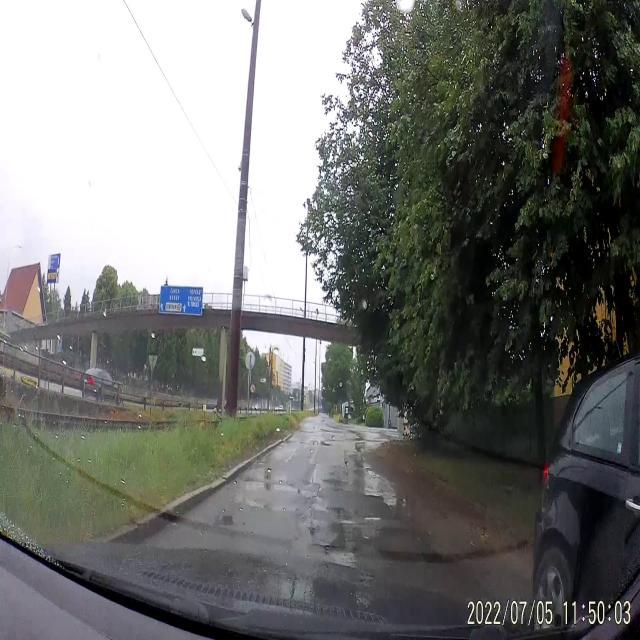Pothole: (359, 459, 398, 512)
